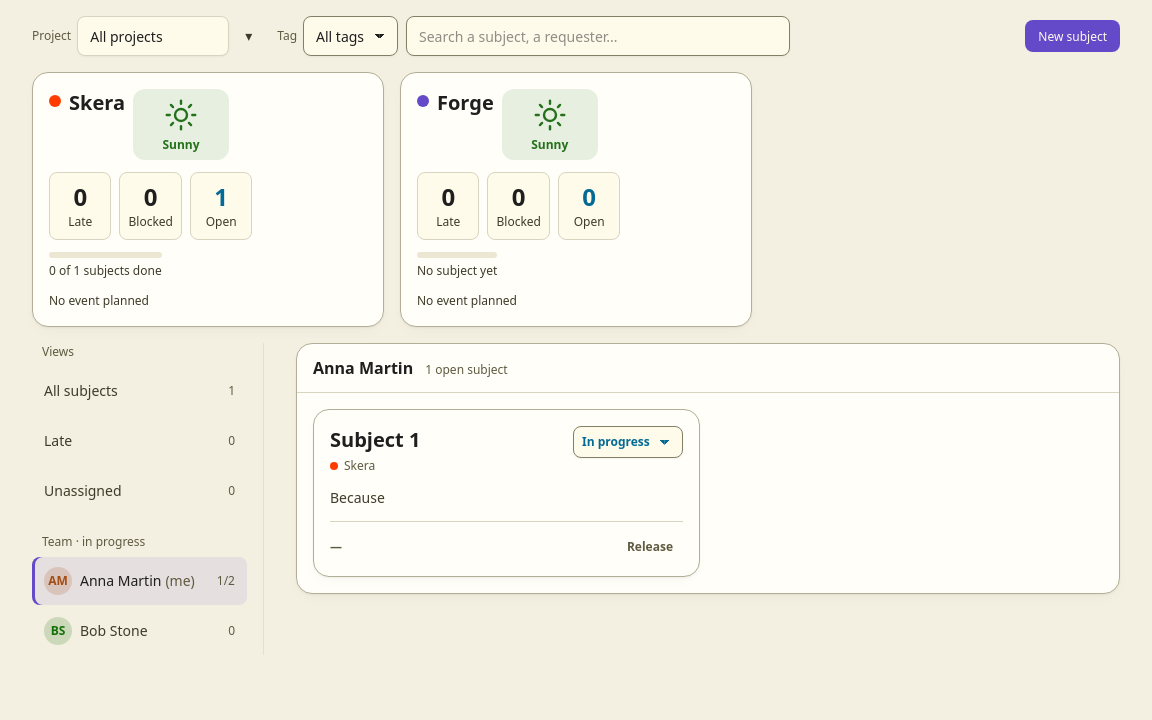
SubjectsScreen actions › shows the refusal of the board when an action fails
Click the button with test id "subject-release": (650, 548) [617,534,683,560]
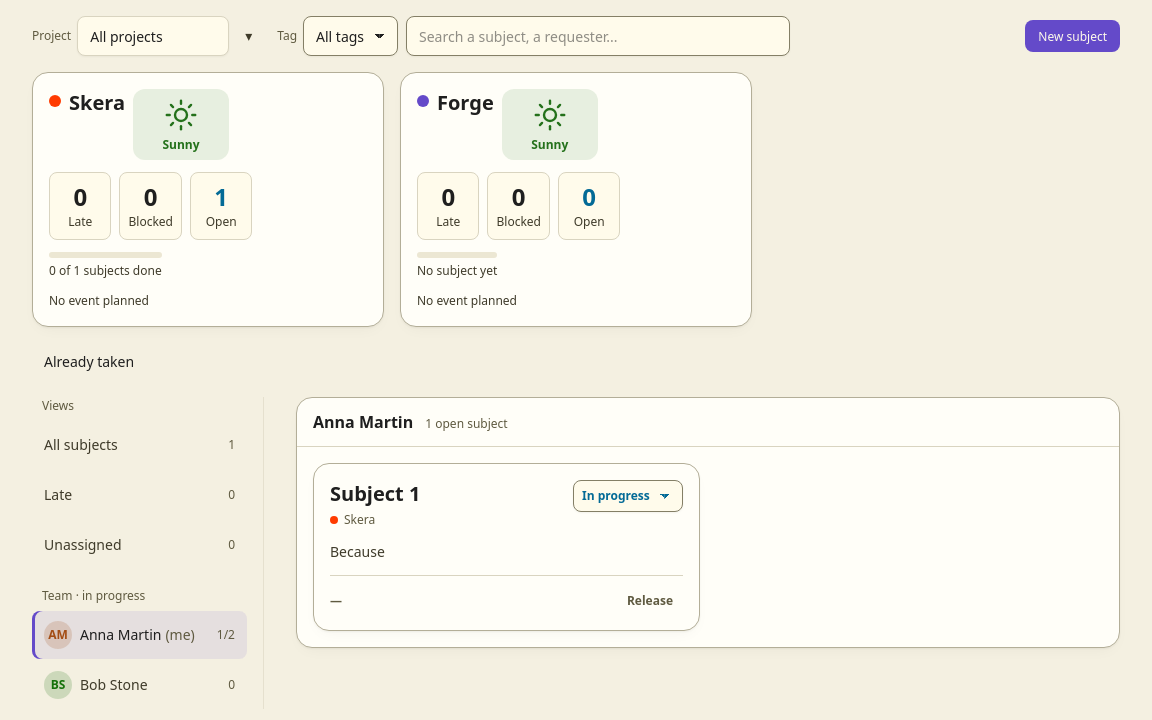
Check: the message with test id "subjects-refusal" reads "Already taken", box [44,352,134,371]
